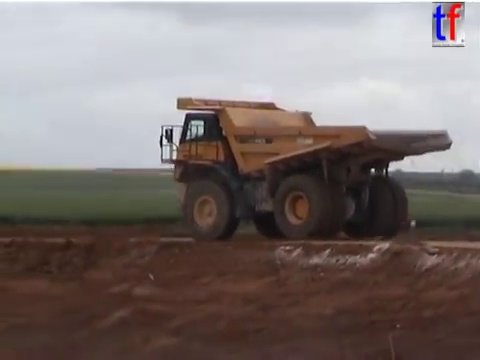truck: (157, 94, 454, 243)
